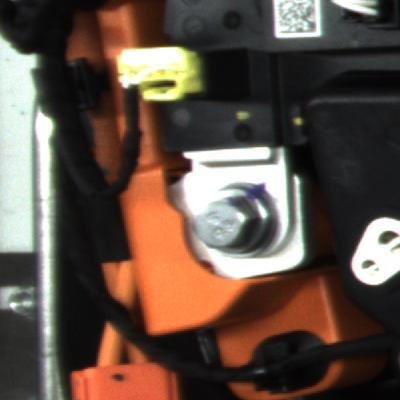nut_b: (185, 178, 290, 263)
